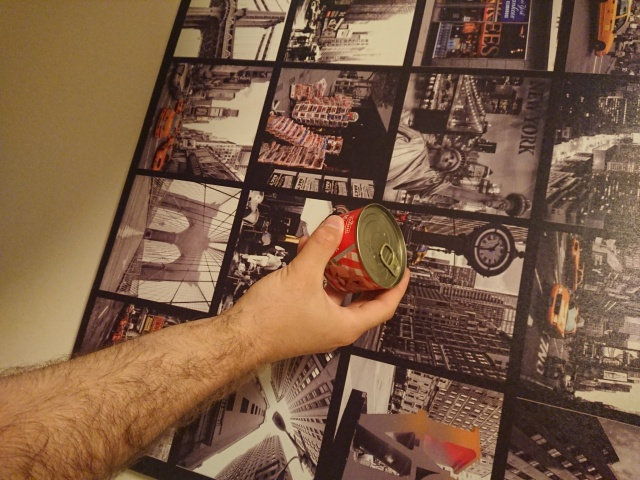Podravka Luncheon Meat 150g: (319, 200, 410, 298)
